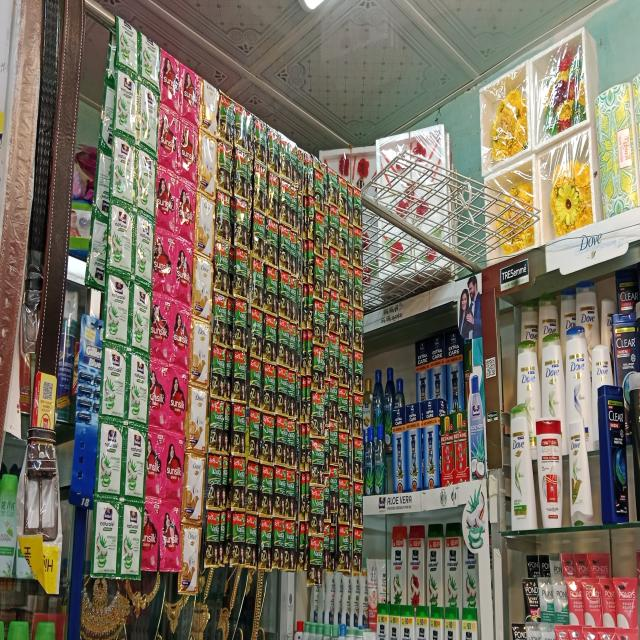non-ubl: (103, 224, 134, 305), (94, 419, 125, 499), (119, 499, 145, 579), (103, 272, 132, 342), (125, 346, 151, 423), (100, 349, 128, 420), (129, 276, 153, 358), (109, 134, 136, 206), (122, 425, 148, 499), (86, 212, 110, 290), (113, 68, 138, 140), (95, 503, 117, 580), (134, 206, 156, 280), (92, 147, 116, 214), (135, 147, 157, 218), (115, 15, 139, 78), (132, 91, 154, 157), (137, 29, 160, 92), (206, 508, 223, 568), (216, 242, 230, 302), (216, 194, 231, 249), (213, 348, 229, 399), (254, 158, 268, 216), (231, 511, 246, 565), (309, 536, 324, 588), (211, 398, 225, 453), (262, 367, 276, 421), (233, 355, 248, 405), (231, 462, 246, 511), (233, 406, 246, 462), (235, 108, 250, 154), (254, 249, 265, 311), (248, 408, 261, 460), (246, 514, 259, 566), (251, 310, 266, 355), (262, 420, 276, 468), (265, 269, 279, 317), (248, 459, 260, 515), (235, 304, 248, 354), (235, 255, 248, 305), (210, 461, 223, 511), (338, 478, 353, 521), (312, 346, 325, 395), (284, 518, 296, 570), (237, 154, 250, 202), (337, 530, 351, 574), (278, 224, 290, 274), (266, 220, 278, 269), (277, 316, 288, 369), (323, 525, 335, 573), (311, 487, 323, 535), (314, 257, 326, 305), (266, 176, 279, 220), (215, 296, 226, 348), (237, 203, 248, 254), (312, 394, 324, 440), (221, 99, 233, 145), (286, 472, 298, 517), (251, 354, 261, 408), (338, 435, 350, 479), (261, 469, 272, 517), (268, 128, 279, 176), (265, 316, 275, 368), (315, 210, 326, 257), (276, 418, 286, 469), (261, 518, 272, 564), (352, 439, 364, 481), (339, 345, 351, 387), (312, 440, 324, 482), (272, 518, 282, 567), (254, 215, 268, 250), (314, 170, 326, 210), (288, 329, 298, 377), (339, 386, 350, 429), (354, 392, 364, 439), (328, 382, 338, 429), (339, 213, 350, 255), (354, 308, 364, 354), (352, 228, 363, 269), (340, 298, 350, 343), (352, 484, 363, 524), (286, 377, 297, 417), (290, 190, 300, 234), (290, 146, 300, 190), (275, 468, 284, 516), (328, 474, 338, 517), (278, 136, 287, 182), (329, 250, 339, 291), (314, 305, 324, 346), (225, 139, 232, 197), (286, 421, 295, 466), (352, 187, 362, 227), (330, 294, 339, 338), (328, 429, 338, 468), (255, 128, 268, 158), (353, 270, 363, 308), (329, 210, 338, 252), (278, 369, 286, 416), (354, 355, 364, 392), (280, 274, 288, 318), (280, 184, 288, 227), (340, 262, 349, 299), (290, 277, 297, 323), (339, 185, 350, 213), (330, 338, 338, 376), (330, 172, 337, 210), (353, 529, 359, 573), (291, 239, 298, 271)
ubl: (188, 317, 212, 393), (140, 499, 164, 574), (172, 229, 195, 305), (154, 166, 180, 232), (183, 450, 207, 518), (194, 196, 217, 262), (146, 426, 167, 498), (158, 50, 182, 112), (185, 382, 208, 441), (157, 107, 178, 171), (193, 253, 214, 315), (147, 368, 170, 422), (150, 292, 170, 354), (162, 502, 180, 568), (181, 526, 197, 597), (169, 304, 186, 369), (165, 438, 182, 498), (171, 367, 185, 427), (201, 138, 216, 192), (184, 73, 201, 119), (182, 120, 195, 180), (204, 88, 218, 140), (178, 182, 193, 226)
